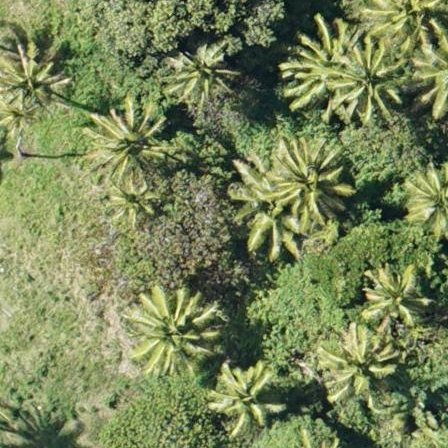palm_tree: (261, 139, 347, 225), (86, 109, 164, 191), (322, 41, 399, 123), (131, 292, 205, 370), (325, 327, 394, 401), (169, 41, 236, 107), (363, 265, 429, 327), (208, 362, 269, 427), (1, 51, 59, 117), (376, 1, 448, 48), (103, 178, 161, 229), (407, 168, 448, 235)
